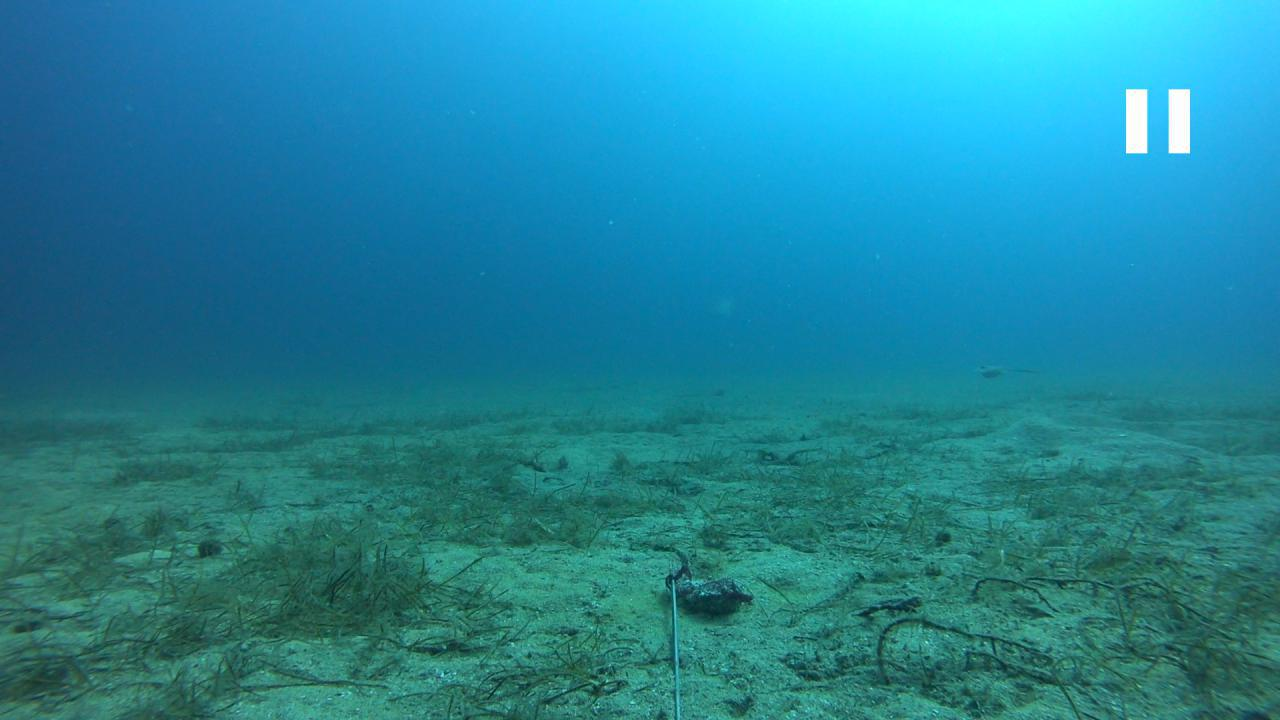dasyatis: (975, 362, 1044, 377)
